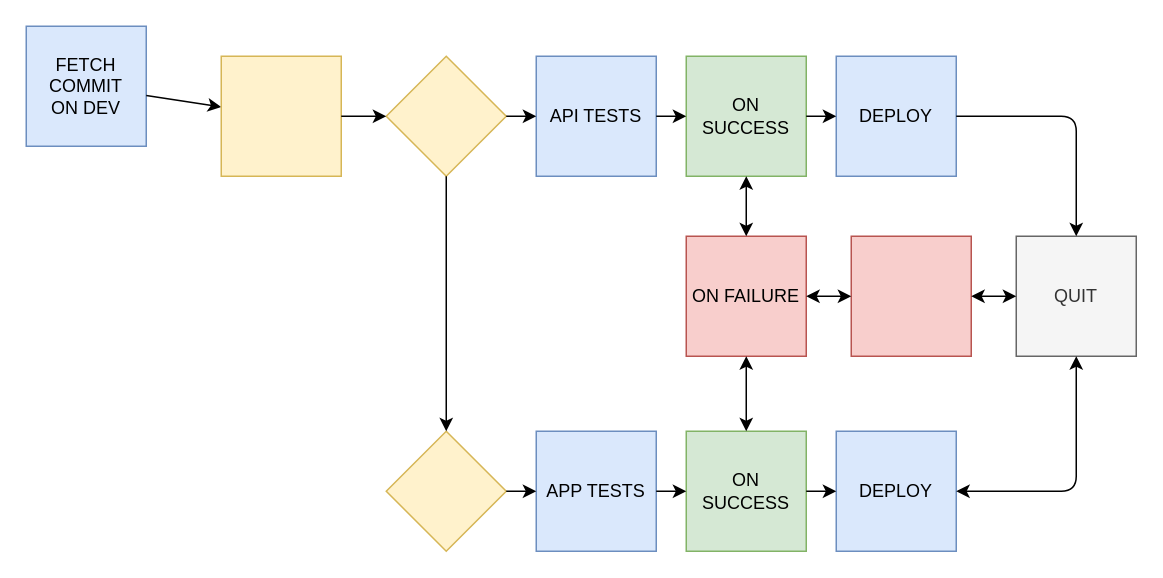
Image size: 1163x578. Some labels were removed from this diagram. The shapes that lost their labels are listed below. From the top down, each one's centre as x and y in pixels, then its label:
At [280,115]: "SELECTION BETWEEN 1) API 2) APP".
At [445,115]: "IF 1".
At [910,295]: "ERROR".
At [445,490]: "IF 2".
